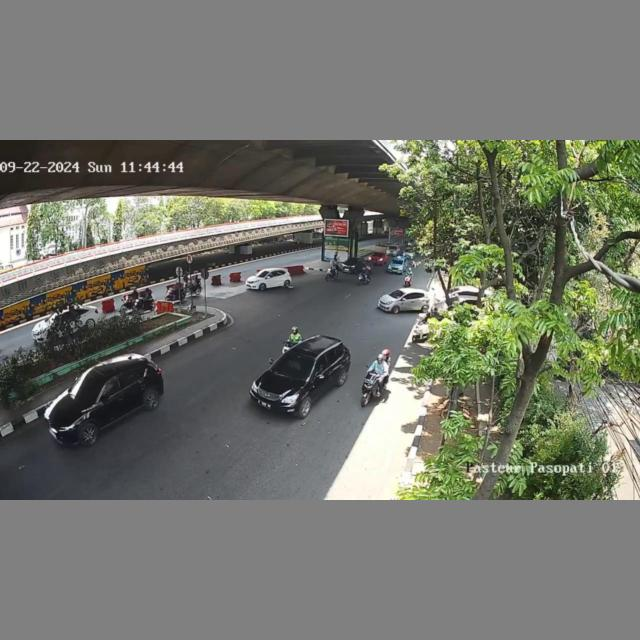windshield: (266, 353, 322, 380), (70, 370, 100, 405), (389, 289, 404, 299)
